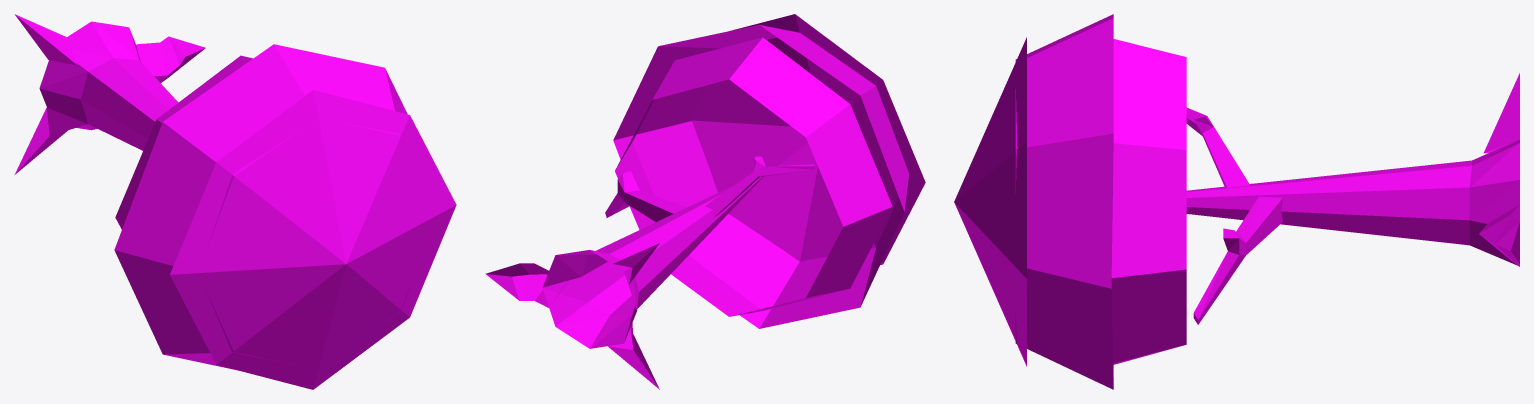
The model's file is 1_sapling.obj.
3 views of the same model, side by side, from view 1: azimuth 30°, elevation 25°; view 2: azimuth 150°, elevation 25°; view 3: azimuth 270°, elevation 25° (orthographic). The views are drawn at different scales.
Visible parts, largest first — view 1: grapefruit_1_sapling; view 2: grapefruit_1_sapling; view 3: grapefruit_1_sapling.
Part boxes in pixels (x1=…): grapefruit_1_sapling: x1=14, y1=14, x2=456, y2=389; grapefruit_1_sapling: x1=485, y1=14, x2=925, y2=389; grapefruit_1_sapling: x1=954, y1=14, x2=1519, y2=389.
Size of the model in its own units: 0.4475 by 0.445 by 0.62.
